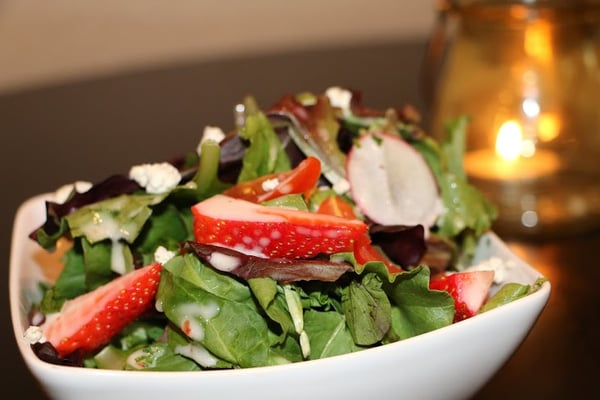sushi: (24, 48, 553, 395)
